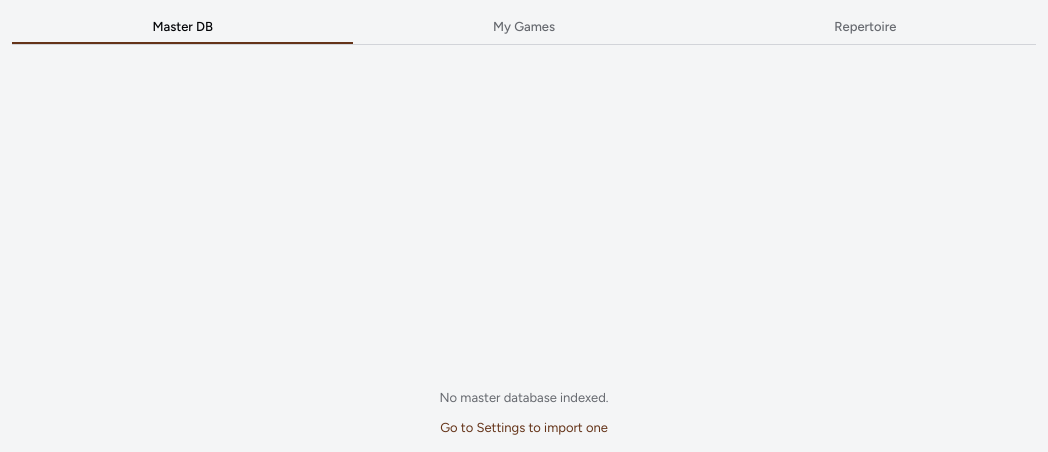
Test case: ExplorerPanelContent › shows prepared moves grouped by repertoire
Click the button "Repertoire" at (865, 28), box 695,12 -> 1036,44
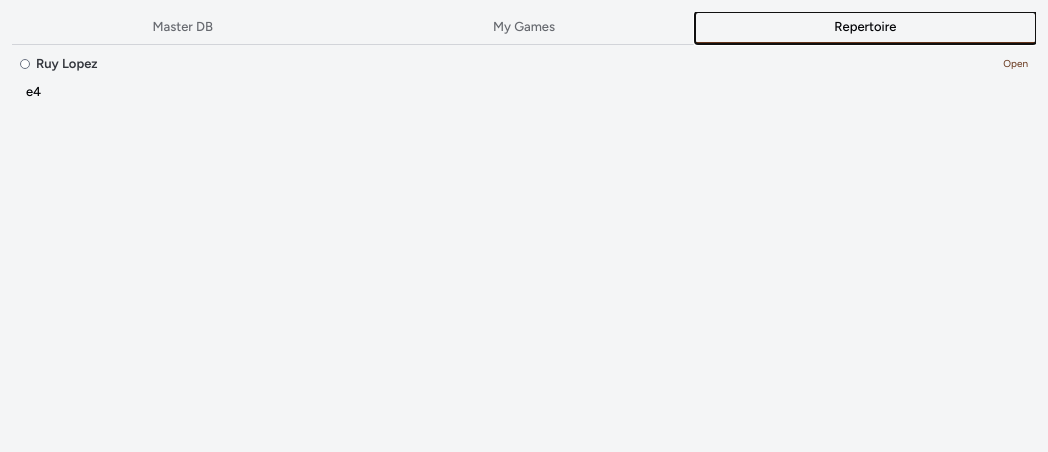
Expected: the text "Ruy Lopez" is shown, 36,55 -> 98,73
Expected: the text "e4" is shown, 26,83 -> 41,101
